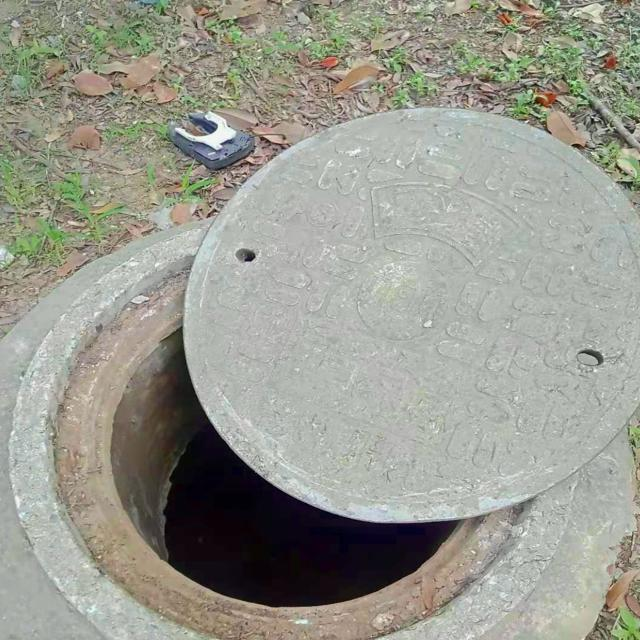uncovered: (0, 104, 640, 640)
